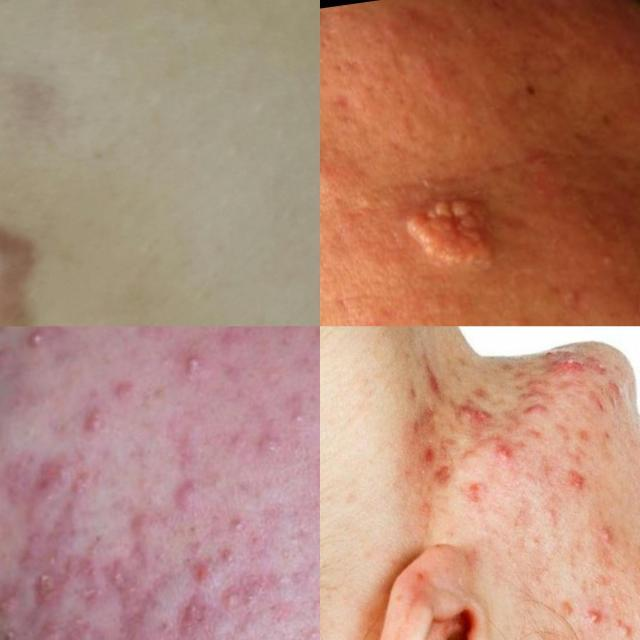Pimples: (398, 185, 510, 285), (0, 185, 56, 326), (169, 332, 216, 388), (76, 394, 114, 450), (0, 326, 52, 364), (33, 560, 65, 614), (166, 472, 206, 515), (560, 458, 598, 499), (577, 596, 613, 636), (458, 397, 498, 426), (0, 582, 25, 624), (598, 374, 628, 407), (595, 512, 619, 552), (526, 366, 558, 396), (492, 437, 520, 463)
